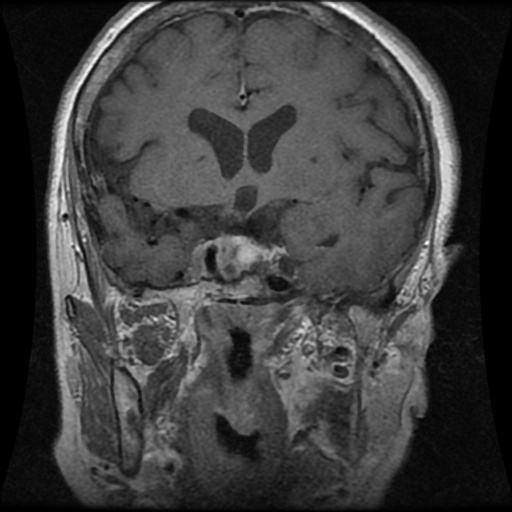pituitary: (216, 234, 265, 278)
